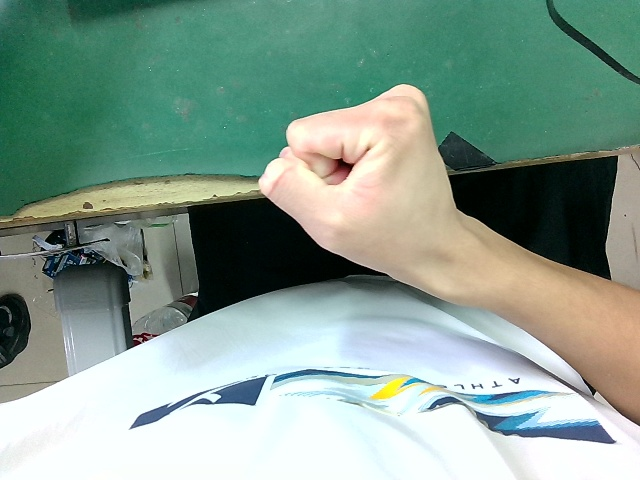stone: (248, 71, 484, 300)
